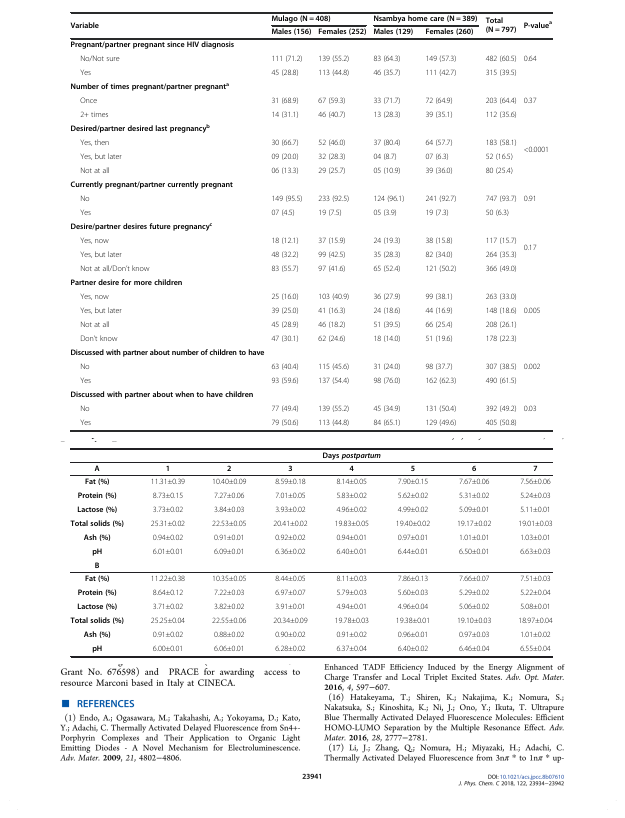borderless: (69, 11, 552, 430), (70, 447, 552, 656)
cell: (70, 349, 265, 359), (70, 391, 254, 401), (70, 82, 230, 93), (70, 41, 235, 51), (70, 181, 234, 191), (70, 222, 213, 233), (70, 124, 211, 135), (70, 279, 183, 289), (372, 15, 478, 24), (79, 265, 151, 274), (485, 17, 517, 35), (70, 519, 125, 529), (70, 616, 125, 626), (270, 15, 331, 24), (322, 451, 382, 460), (317, 28, 367, 38), (424, 28, 474, 38), (270, 28, 312, 38), (372, 28, 414, 38), (76, 505, 118, 515), (76, 602, 118, 612), (77, 491, 117, 501), (77, 588, 117, 598), (79, 153, 123, 162), (79, 251, 123, 260), (79, 307, 123, 316), (79, 55, 120, 64), (79, 335, 118, 344), (523, 20, 553, 31), (70, 21, 100, 31), (270, 55, 303, 64), (317, 55, 350, 64), (424, 55, 457, 64), (317, 69, 350, 78), (424, 69, 457, 78), (270, 195, 303, 204), (317, 195, 350, 204), (372, 195, 405, 204), (424, 195, 457, 204), (424, 265, 457, 274), (317, 293, 350, 302), (317, 363, 350, 372), (317, 377, 350, 386), (424, 377, 457, 386), (317, 405, 350, 414), (424, 405, 457, 414), (317, 419, 350, 428), (424, 419, 457, 428), (485, 55, 517, 64), (485, 69, 517, 78), (485, 97, 517, 106), (485, 111, 517, 120), (485, 139, 517, 148), (485, 195, 517, 204), (485, 237, 517, 246), (485, 251, 517, 260), (485, 265, 517, 274), (485, 293, 517, 302), (485, 307, 517, 316), (485, 321, 517, 330), (485, 335, 517, 344), (485, 363, 517, 372), (485, 377, 517, 386), (485, 405, 517, 414), (485, 419, 517, 428), (83, 533, 111, 543), (83, 630, 111, 640), (79, 139, 110, 148), (79, 167, 110, 176), (79, 237, 110, 246), (79, 293, 110, 302), (79, 321, 110, 330), (79, 111, 109, 120), (372, 55, 401, 64), (270, 69, 299, 78), (372, 69, 401, 78), (270, 97, 299, 106), (317, 97, 346, 106), (372, 97, 401, 106), (424, 97, 453, 106), (270, 111, 299, 120), (317, 111, 346, 120), (372, 111, 401, 120), (424, 111, 453, 120), (270, 139, 299, 148), (317, 139, 346, 148), (372, 139, 401, 148), (424, 139, 453, 148), (270, 153, 299, 162), (317, 153, 346, 162), (485, 153, 514, 162), (270, 167, 299, 176), (317, 167, 346, 176), (372, 167, 401, 176), (424, 167, 453, 176), (485, 167, 514, 176), (270, 237, 299, 246), (317, 237, 346, 246), (372, 237, 401, 246), (424, 237, 453, 246), (270, 251, 299, 260), (317, 251, 346, 260), (372, 251, 401, 260), (424, 251, 453, 260), (270, 265, 299, 274), (317, 265, 346, 274), (372, 265, 401, 274), (270, 293, 299, 302), (372, 293, 401, 302), (424, 293, 453, 302), (270, 307, 299, 316), (317, 307, 346, 316), (372, 307, 401, 316), (424, 307, 453, 316), (270, 321, 299, 330), (317, 321, 346, 330), (372, 321, 401, 330), (424, 321, 453, 330), (270, 335, 299, 344), (317, 335, 346, 344), (372, 335, 401, 344), (424, 335, 453, 344), (270, 363, 299, 372), (372, 363, 401, 372), (424, 363, 453, 372), (270, 377, 299, 386), (372, 377, 401, 386), (270, 405, 299, 414), (372, 405, 401, 414), (270, 419, 299, 428), (372, 419, 401, 428), (84, 477, 110, 487), (84, 574, 110, 584), (150, 478, 186, 485), (211, 478, 247, 485), (150, 520, 186, 527), (211, 520, 247, 527), (272, 520, 308, 527), (334, 520, 370, 527), (395, 520, 431, 527), (456, 520, 492, 527), (517, 520, 553, 527), (150, 575, 186, 582), (211, 575, 247, 582), (150, 617, 186, 624), (211, 617, 247, 624), (272, 617, 308, 624), (334, 617, 370, 624), (395, 617, 431, 624), (456, 617, 492, 624), (517, 617, 553, 624), (523, 146, 550, 155), (372, 153, 398, 162), (424, 153, 450, 162), (270, 209, 296, 218), (372, 209, 398, 218), (424, 209, 450, 218), (274, 478, 307, 485), (335, 478, 368, 485), (519, 478, 552, 485), (274, 492, 307, 499), (335, 492, 368, 499), (519, 492, 552, 499), (274, 506, 307, 513), (335, 506, 368, 513), (519, 506, 552, 513), (274, 534, 307, 541), (335, 534, 368, 541), (519, 534, 552, 541), (274, 548, 307, 555), (335, 548, 368, 555), (519, 548, 552, 555), (274, 575, 307, 582), (335, 575, 368, 582), (519, 575, 552, 582), (274, 589, 307, 596), (335, 589, 368, 596), (519, 589, 552, 596), (274, 603, 307, 610), (335, 603, 368, 610), (519, 603, 552, 610), (274, 631, 307, 638), (335, 631, 368, 638), (519, 631, 552, 638), (274, 645, 307, 652), (335, 645, 368, 652), (519, 645, 552, 652), (317, 209, 342, 218), (485, 209, 510, 218), (397, 478, 429, 485), (458, 478, 490, 485), (152, 492, 184, 499), (213, 492, 245, 499), (397, 492, 429, 499), (458, 492, 490, 499), (152, 506, 184, 513), (213, 506, 245, 513), (397, 506, 429, 513), (458, 506, 490, 513), (152, 534, 184, 541), (213, 534, 245, 541), (397, 534, 429, 541), (458, 534, 490, 541), (152, 548, 184, 555), (213, 548, 245, 555), (397, 548, 429, 555), (458, 548, 490, 555), (397, 575, 429, 582), (458, 575, 490, 582), (152, 589, 184, 596), (213, 589, 245, 596), (397, 589, 429, 596), (458, 589, 490, 596), (152, 603, 184, 610), (213, 603, 245, 610), (397, 603, 429, 610), (458, 603, 490, 610), (152, 631, 184, 638), (213, 631, 245, 638), (397, 631, 429, 638), (458, 631, 490, 638), (152, 645, 184, 652), (213, 645, 245, 652), (397, 645, 429, 652), (458, 645, 490, 652), (79, 97, 98, 106), (523, 307, 541, 316), (523, 363, 541, 372), (523, 55, 537, 64), (523, 97, 537, 106), (523, 195, 537, 204), (523, 244, 537, 253), (523, 405, 537, 414), (91, 547, 103, 557), (91, 644, 103, 654), (79, 69, 92, 78), (79, 209, 92, 218), (79, 377, 92, 386), (79, 419, 92, 428), (79, 195, 90, 204), (79, 363, 90, 372), (79, 405, 90, 414), (94, 464, 101, 474), (348, 464, 355, 474), (165, 464, 171, 474), (226, 464, 232, 474), (287, 464, 293, 474), (410, 464, 416, 474), (471, 464, 477, 474), (532, 464, 538, 474), (94, 561, 100, 571)
